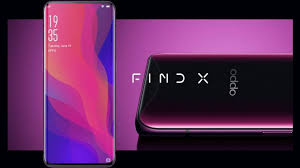oppo: (135, 52, 296, 137), (40, 2, 118, 165)
